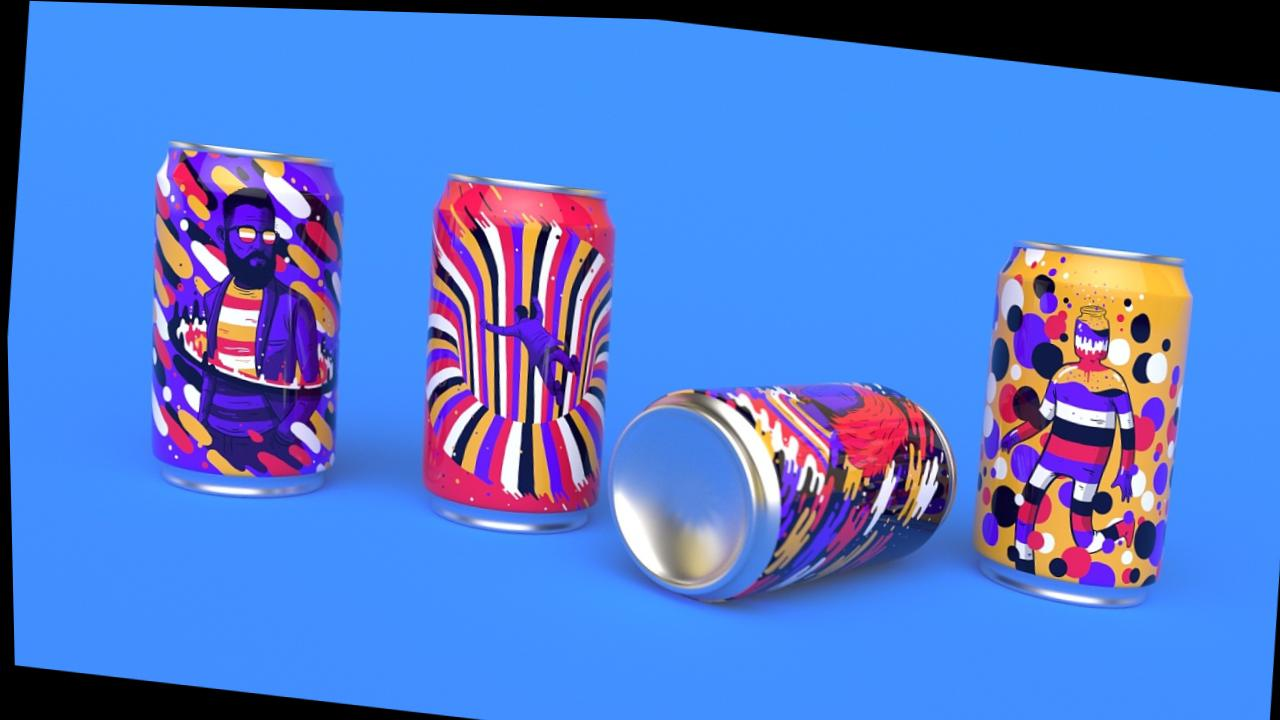metal: (974, 240, 1191, 608), (608, 383, 955, 601), (423, 174, 615, 533), (151, 141, 343, 498)
